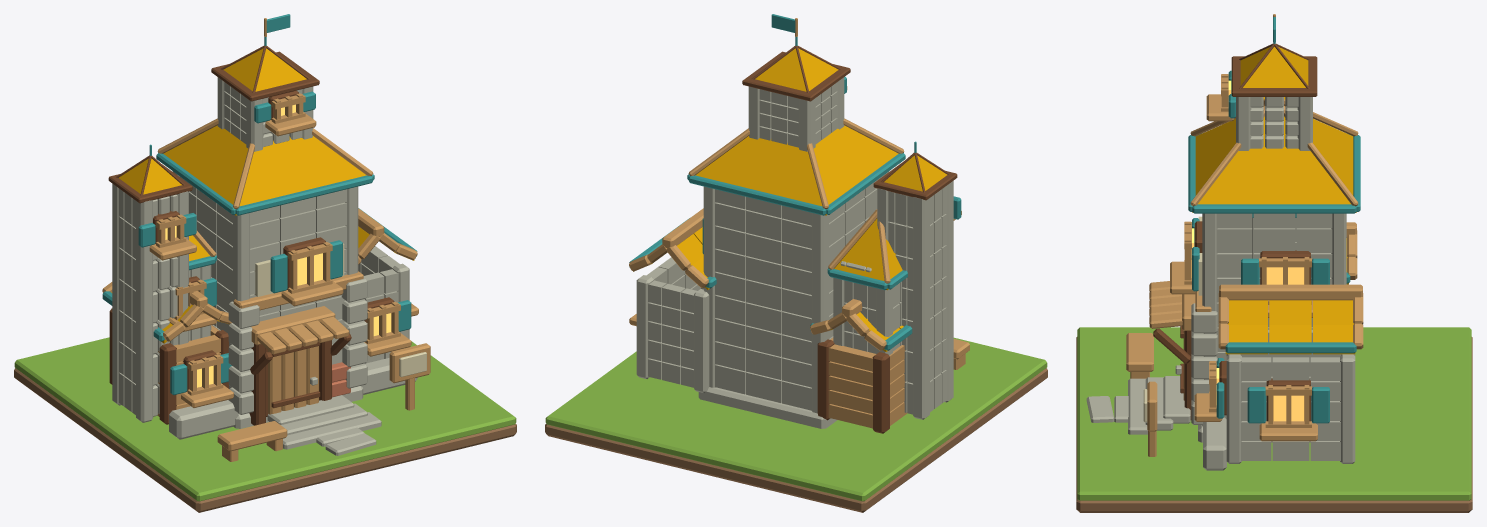
Rendered from town_hall_l07_active_LOD0.glb.
3 renders of one model, left to right at view 1: azimuth 30°, elevation 25°; view 2: azimuth 150°, elevation 25°; view 3: azimuth 270°, elevation 25°, orthographic. The views are drawn at different scales.
Parts seen in each view (by area): view 1: town_hall_l07_active_grass_tile, town_hall_l07_active_earth_tile, town_hall_l07_active_corner_reinforcement.020, town_hall_l07_active_hip_roof_shingle.002, town_hall_l07_active_hip_roof_shingle.011, town_hall_l07_active_central_spire_roof_shingle, town_hall_l07_active_stone_foundation_course, town_hall_l07_active_hip_roof_shingle.001, town_hall_l07_active_corner_reinforcement.021, town_hall_l07_active_corner_reinforcement, town_hall_l07_active_eave_trim, town_hall_l07_active_bench_seat (+36 smaller); view 2: town_hall_l07_active_grass_tile, town_hall_l07_active_earth_tile, town_hall_l07_active_corner_reinforcement.021, town_hall_l07_active_hip_roof_shingle.008, town_hall_l07_active_corner_reinforcement.001, town_hall_l07_active_hip_roof_shingle.011, town_hall_l07_active_foundation, town_hall_l07_active_central_spire_roof_shingle, town_hall_l07_active_corner_reinforcement.003, town_hall_l07_active_hip_roof_shingle.007, town_hall_l07_active_corner_reinforcement.009, town_hall_l07_active_corner_reinforcement.020 (+45 smaller); view 3: town_hall_l07_active_grass_tile, town_hall_l07_active_earth_tile, town_hall_l07_active_hip_roof_shingle.005, town_hall_l07_active_ridge_cap.005, town_hall_l07_active_hip_roof_shingle.004, town_hall_l07_active_central_spire_roof_shingle, town_hall_l07_active_corner_reinforcement.011, town_hall_l07_active_corner_reinforcement.010, town_hall_l07_active_eave_trim.001, town_hall_l07_active_eave_trim.007, town_hall_l07_active_corner_reinforcement.002, town_hall_l07_active_central_spire_cornice (+56 smaller).
Boxes of the visible parts, x1,y1,x2,y2 form: town_hall_l07_active_grass_tile: (14, 337, 516, 501); town_hall_l07_active_earth_tile: (14, 368, 516, 512); town_hall_l07_active_corner_reinforcement.020: (136, 200, 153, 422); town_hall_l07_active_hip_roof_shingle.002: (235, 152, 366, 215); town_hall_l07_active_hip_roof_shingle.011: (163, 137, 241, 215); town_hall_l07_active_central_spire_roof_shingle: (223, 48, 306, 91); town_hall_l07_active_stone_foundation_course: (169, 400, 238, 439); town_hall_l07_active_hip_roof_shingle.001: (248, 136, 335, 173); town_hall_l07_active_corner_reinforcement.021: (112, 183, 121, 405); town_hall_l07_active_corner_reinforcement: (233, 213, 250, 413); town_hall_l07_active_eave_trim: (235, 175, 372, 215); town_hall_l07_active_bench_seat: (217, 421, 287, 451); town_hall_l07_active_grass_tile: (545, 337, 1047, 501); town_hall_l07_active_earth_tile: (545, 368, 1047, 512); town_hall_l07_active_corner_reinforcement.021: (913, 197, 929, 419); town_hall_l07_active_hip_roof_shingle.008: (695, 152, 826, 215); town_hall_l07_active_corner_reinforcement.001: (811, 213, 828, 413); town_hall_l07_active_hip_roof_shingle.011: (820, 137, 898, 215); town_hall_l07_active_foundation: (698, 387, 837, 428); town_hall_l07_active_central_spire_roof_shingle: (755, 48, 838, 91); town_hall_l07_active_corner_reinforcement.003: (703, 186, 716, 387); town_hall_l07_active_hip_roof_shingle.007: (726, 136, 813, 173); town_hall_l07_active_corner_reinforcement.009: (694, 289, 709, 392); town_hall_l07_active_corner_reinforcement.020: (945, 181, 953, 402); town_hall_l07_active_grass_tile: (1077, 327, 1471, 500); town_hall_l07_active_earth_tile: (1076, 337, 1472, 512); town_hall_l07_active_hip_roof_shingle.005: (1192, 173, 1356, 212); town_hall_l07_active_ridge_cap.005: (1219, 284, 1362, 300); town_hall_l07_active_hip_roof_shingle.004: (1221, 137, 1327, 173); town_hall_l07_active_central_spire_roof_shingle: (1240, 46, 1308, 87); town_hall_l07_active_corner_reinforcement.011: (1340, 354, 1355, 463); town_hall_l07_active_corner_reinforcement.010: (1226, 354, 1241, 463); town_hall_l07_active_eave_trim.001: (1192, 204, 1356, 213); town_hall_l07_active_eave_trim.007: (1225, 342, 1356, 353); town_hall_l07_active_corner_reinforcement.002: (1202, 213, 1217, 426); town_hall_l07_active_central_spire_cornice: (1231, 56, 1317, 96).
Bounding box in the file's own units: 3.6 × 4.18 × 3.6.
